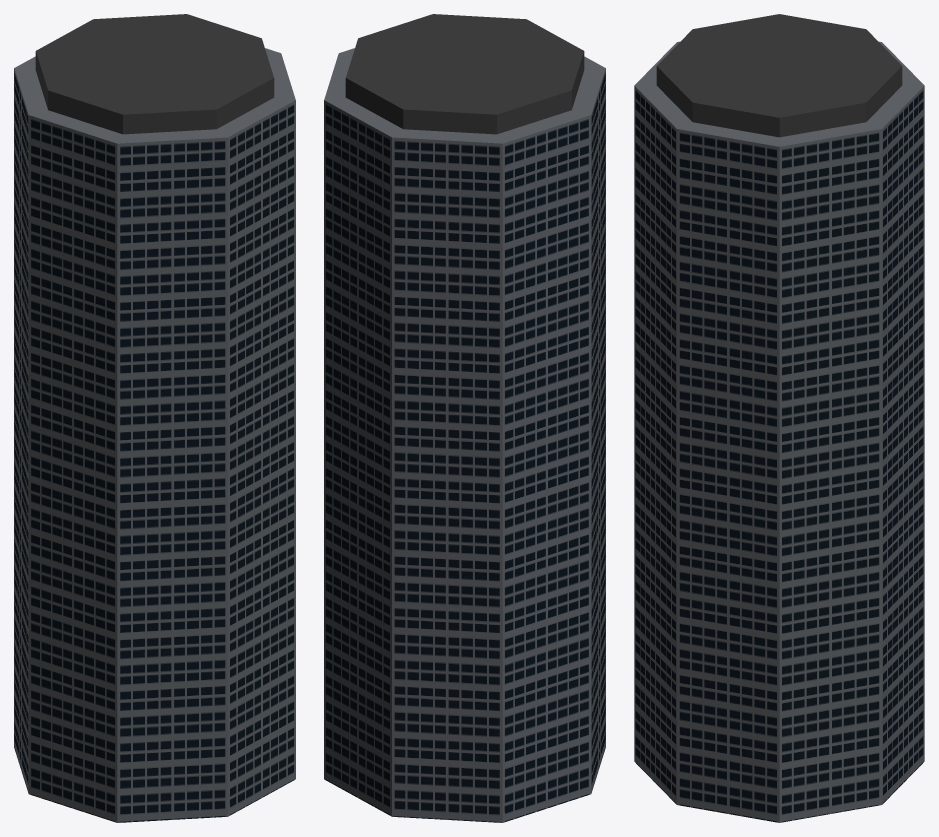
The model's file is SM_Env_Background_Building_Round_01.fbx.
3 renders of one model, left to right at view 1: azimuth 30°, elevation 25°; view 2: azimuth 150°, elevation 25°; view 3: azimuth 270°, elevation 25°, orthographic.
Visible parts, largest first — view 1: SM_Env_Background_Building_Round_01; view 2: SM_Env_Background_Building_Round_01; view 3: SM_Env_Background_Building_Round_01.
Boxes of the visible parts, x1,y1,x2,y2 form: SM_Env_Background_Building_Round_01: [14, 14, 295, 822]; SM_Env_Background_Building_Round_01: [324, 14, 605, 822]; SM_Env_Background_Building_Round_01: [634, 14, 924, 822].
Bounding box in the file's own units: 2754 × 7283 × 2754.
